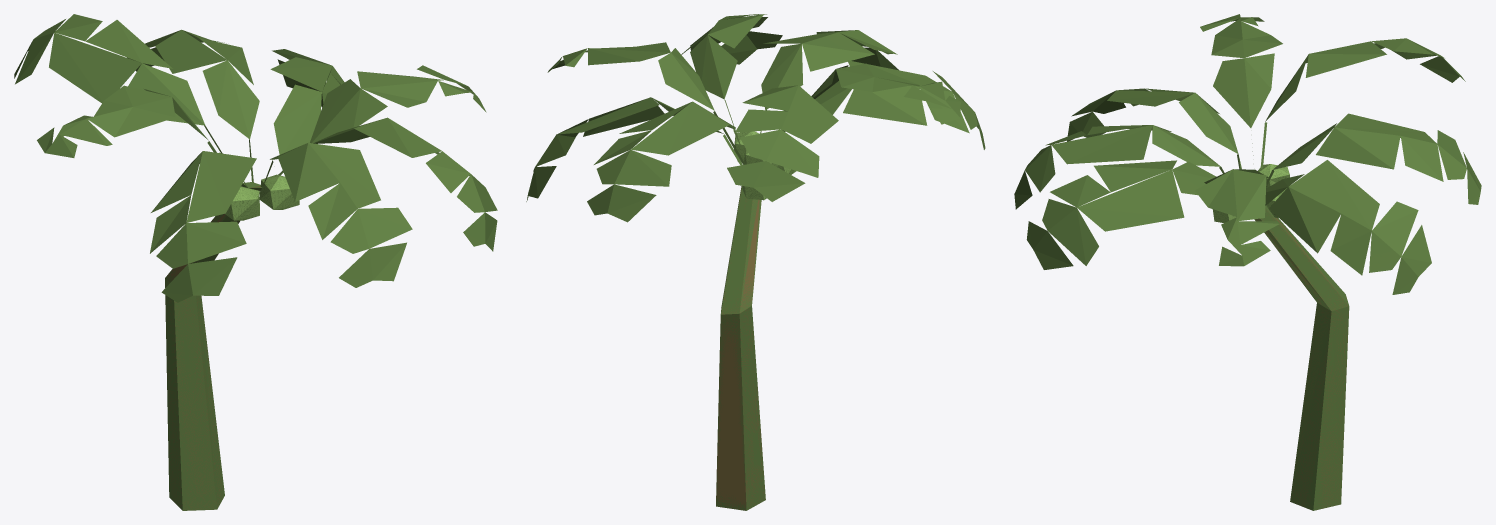
Rendered from Vegetation_Tree_Palm_Coconuts_01.fbx.
3 views of the same model, side by side, from view 1: azimuth 30°, elevation 25°; view 2: azimuth 150°, elevation 25°; view 3: azimuth 270°, elevation 25° (orthographic). The views are drawn at different scales.
Parts seen in each view (by area): view 1: Vegetation_Tree_Palm_Coconuts_01; view 2: Vegetation_Tree_Palm_Coconuts_01; view 3: Vegetation_Tree_Palm_Coconuts_01.
Part boxes in pixels (x1,y1,x2,y2): Vegetation_Tree_Palm_Coconuts_01: (14, 14, 497, 510); Vegetation_Tree_Palm_Coconuts_01: (526, 14, 985, 510); Vegetation_Tree_Palm_Coconuts_01: (1014, 14, 1481, 510).
Bounding box in the file's own units: 3993 × 4041 × 4016.
